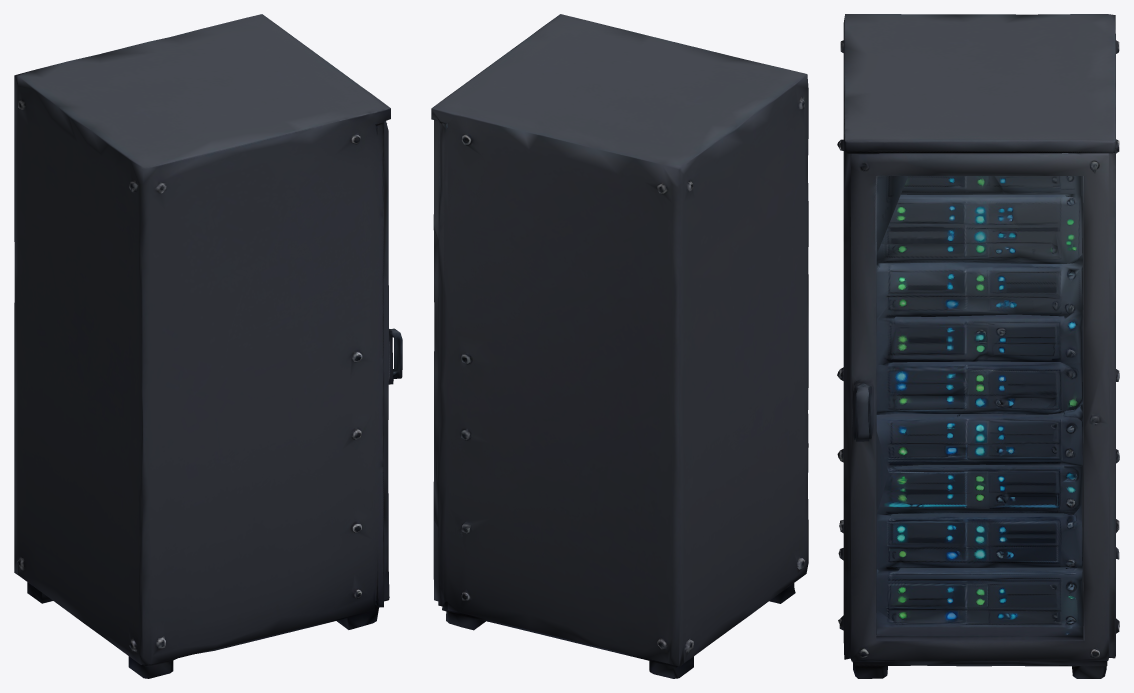
Rendered from rack.glb.
The picture shows the model from 3 angles, left to right: view 1: azimuth 30°, elevation 25°; view 2: azimuth 150°, elevation 25°; view 3: azimuth 270°, elevation 25°; orthographic projection. The views are drawn at different scales.
Visible parts, largest first — view 1: tripo_node_6f97f1b3-e8ca-4c7a-bb78-96a99848edea; view 2: tripo_node_6f97f1b3-e8ca-4c7a-bb78-96a99848edea; view 3: tripo_node_6f97f1b3-e8ca-4c7a-bb78-96a99848edea.
Boxes of the visible parts, x1,y1,x2,y2 form: tripo_node_6f97f1b3-e8ca-4c7a-bb78-96a99848edea: (14, 14, 402, 678); tripo_node_6f97f1b3-e8ca-4c7a-bb78-96a99848edea: (431, 14, 808, 678); tripo_node_6f97f1b3-e8ca-4c7a-bb78-96a99848edea: (837, 14, 1119, 678).
Size of the model in its own units: 0.5478 by 1 by 0.4724.
1 material, 1 textured.
